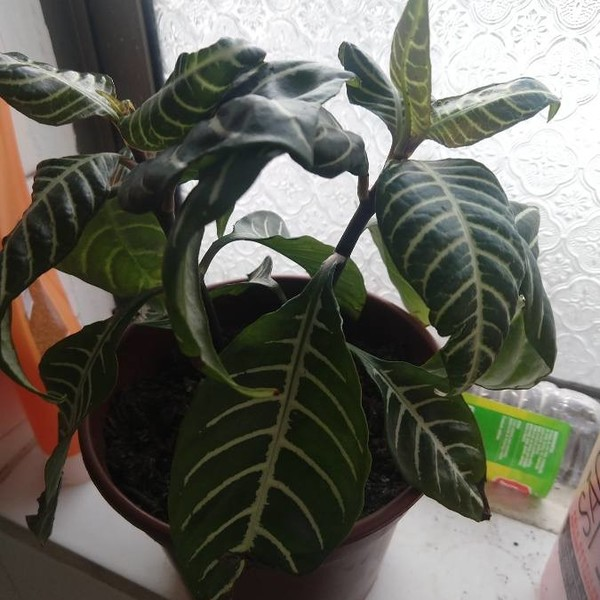obstacle: (33, 21, 479, 588)
